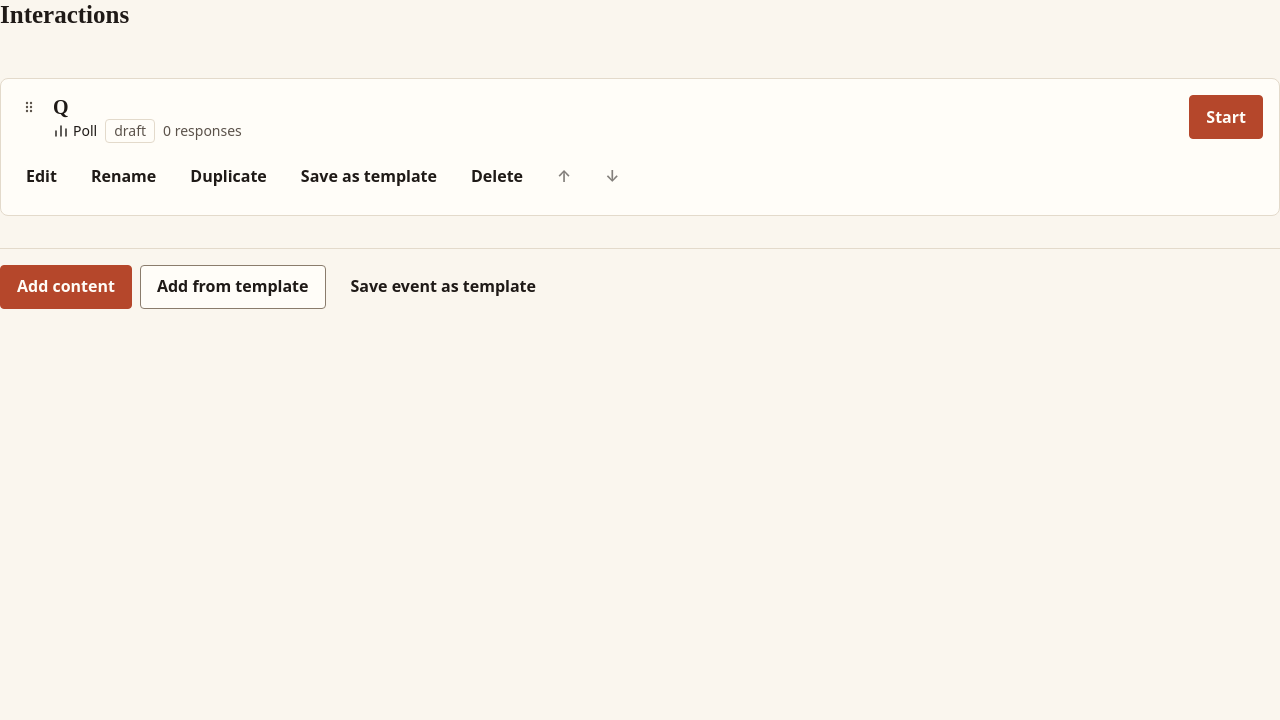
Scenario: Save as template › shows the limit error with the plan hint and keeps the dialog open
Click the button "Save event as template" at {"x": 443, "y": 287}, box top-left (334, 265), bottom-right (553, 309)
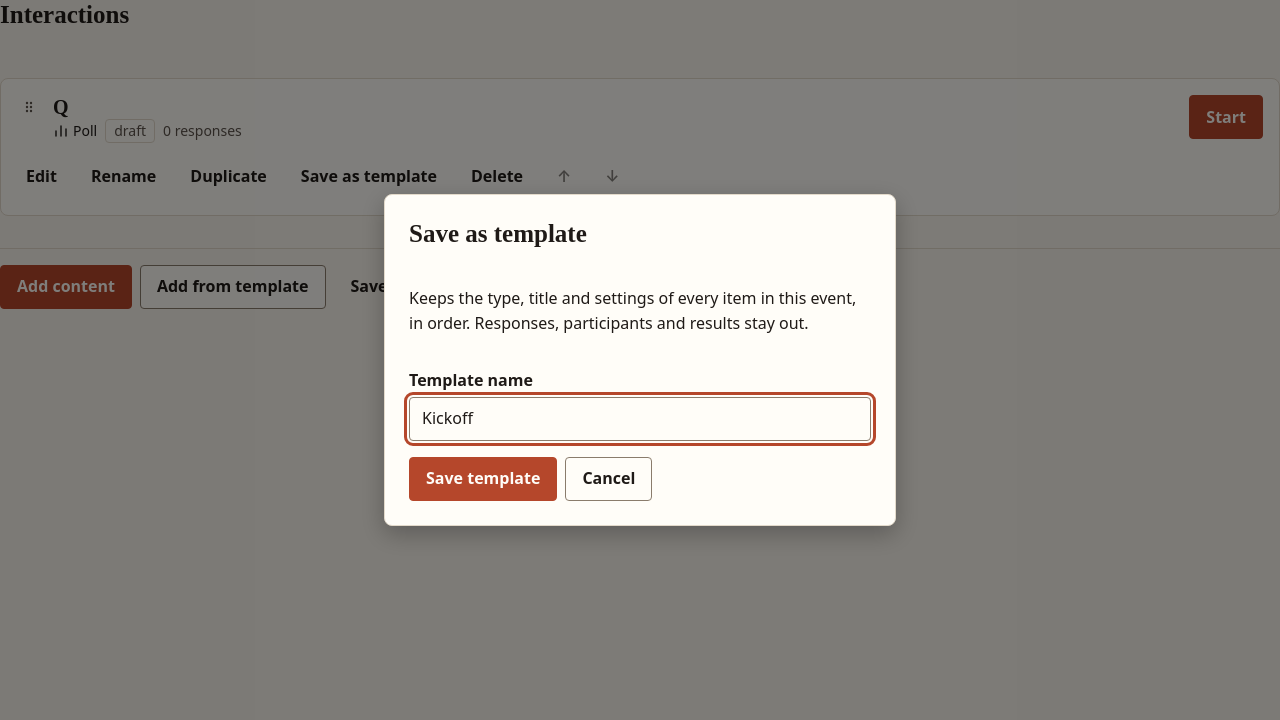
Click the button "Save template" at {"x": 483, "y": 479}, box top-left (409, 457), bottom-right (557, 501)
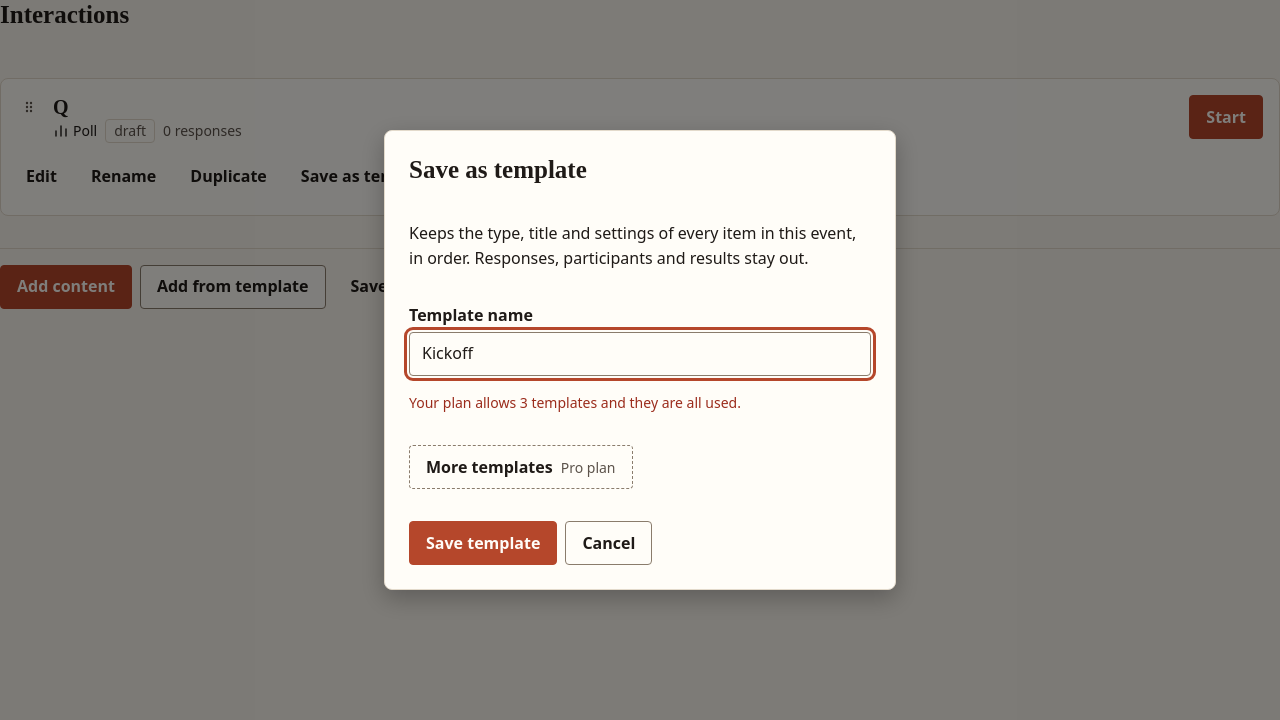
Check: the message shows "all used", box top-left (409, 393), bottom-right (741, 412)
Check: the link "More templates Pro plan" is shown, box top-left (409, 445), bottom-right (632, 489)
